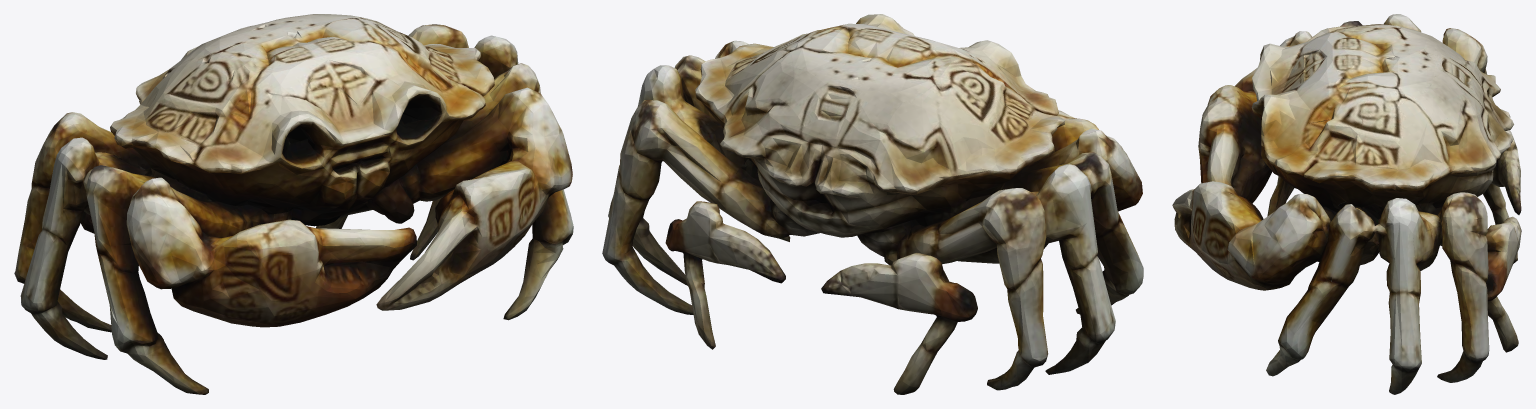
The model's file is boneCrab.glb.
3 views of the same model, side by side, from view 1: azimuth 30°, elevation 25°; view 2: azimuth 150°, elevation 25°; view 3: azimuth 270°, elevation 25° (orthographic). The views are drawn at different scales.
Parts seen in each view (by area): view 1: world; view 2: world; view 3: world.
Part boxes in pixels (left/top/right/bottom): world: left=14, top=14, right=573, bottom=394; world: left=602, top=14, right=1143, bottom=394; world: left=1172, top=14, right=1521, bottom=394.
Bounding box in the file's own units: 1 × 0.5287 × 0.6436.
1 material, 1 textured.
